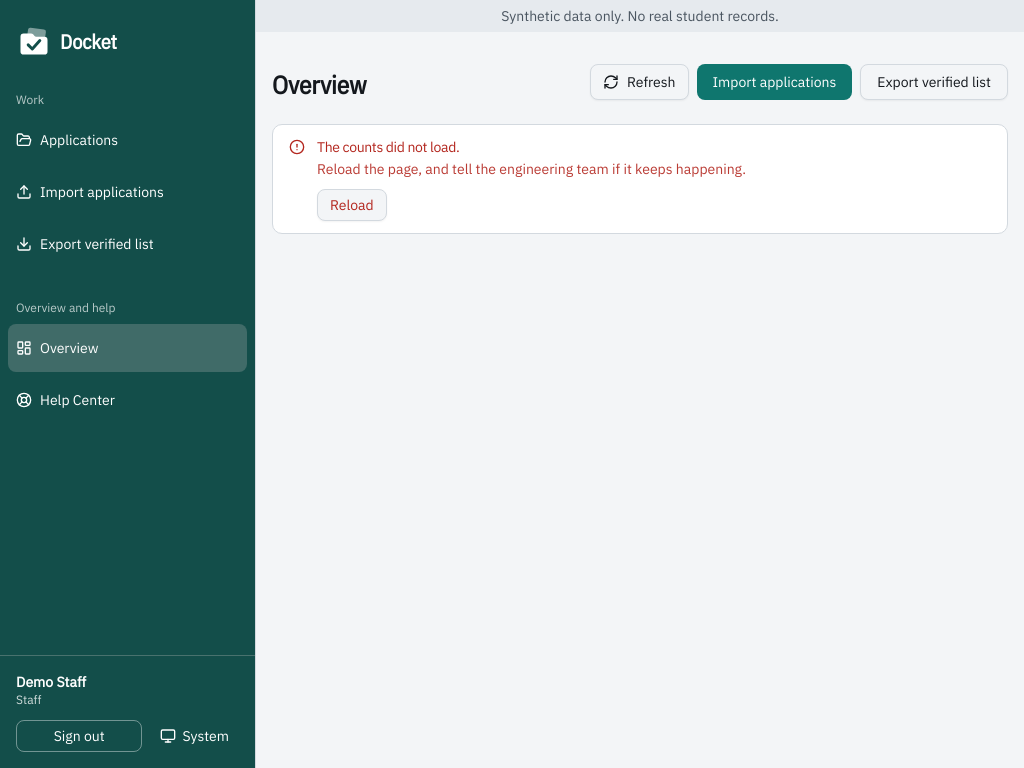
the dashboard › explains a failure and reads again when the person reloads
Expected: the text "The counts did not load." is shown, top-left (317, 138), bottom-right (459, 156)
Click the button "Reload".
click(352, 205)  # box top-left (317, 189), bottom-right (387, 221)
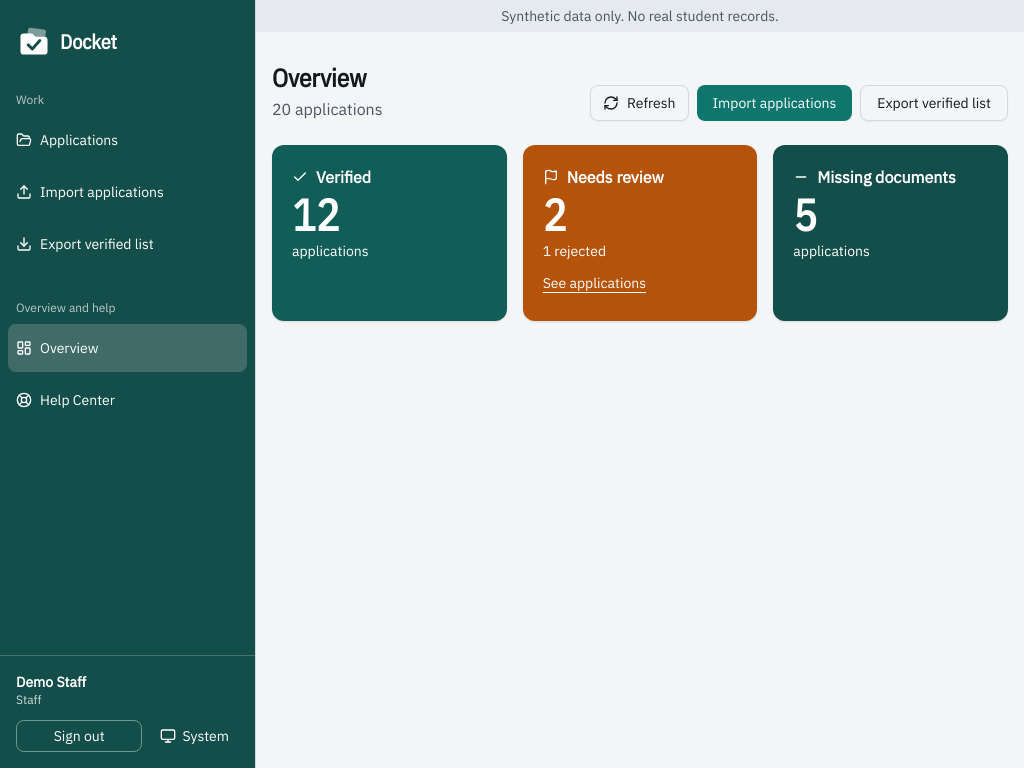
Expected: the text "20 applications" is shown, top-left (272, 97), bottom-right (382, 121)
Expected: the text "The counts did not load." is gone
